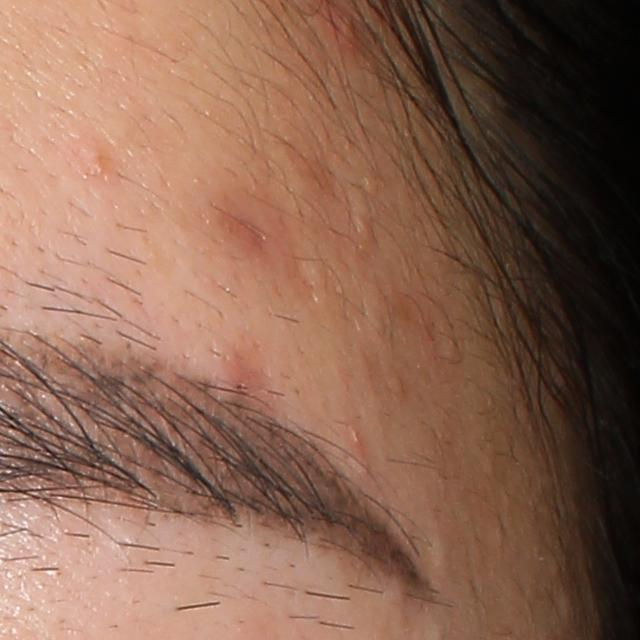comedo: (359, 212, 377, 236)
papule: (203, 348, 266, 410), (322, 10, 369, 53), (79, 148, 112, 182)
